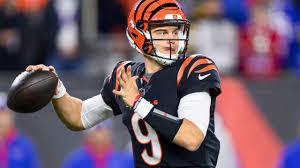americanFootball: (7, 70, 57, 114)
